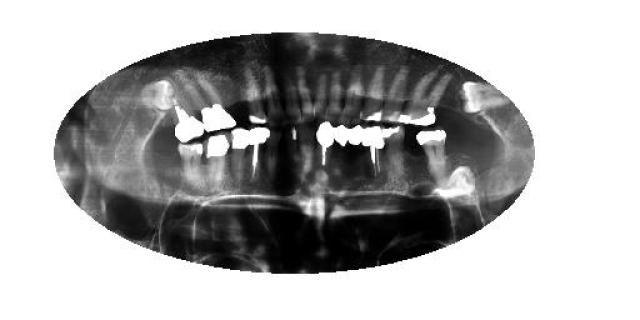Fillings: (398, 72, 450, 126), (188, 76, 238, 132), (417, 130, 448, 180), (205, 132, 233, 184), (178, 143, 206, 185), (245, 72, 266, 126), (230, 128, 250, 182), (364, 70, 385, 120), (385, 125, 405, 175), (334, 124, 351, 172), (348, 125, 362, 176)
Implant: (165, 78, 204, 144), (248, 124, 272, 185), (361, 124, 384, 180), (317, 122, 335, 172)
Restorations: (460, 80, 510, 116), (138, 78, 176, 114)
